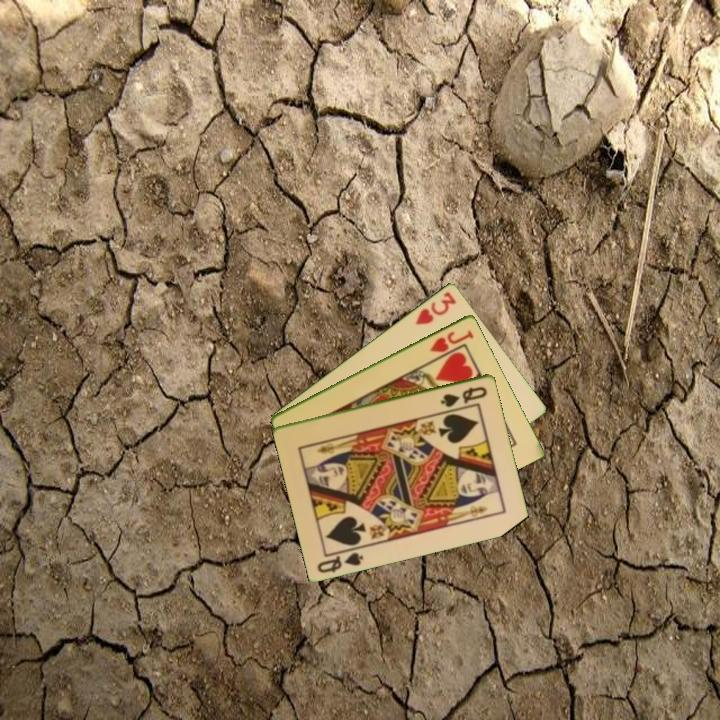3h: (412, 288, 459, 328)
Jh: (427, 326, 477, 355)
Qs: (437, 383, 490, 410), (314, 548, 366, 575)
